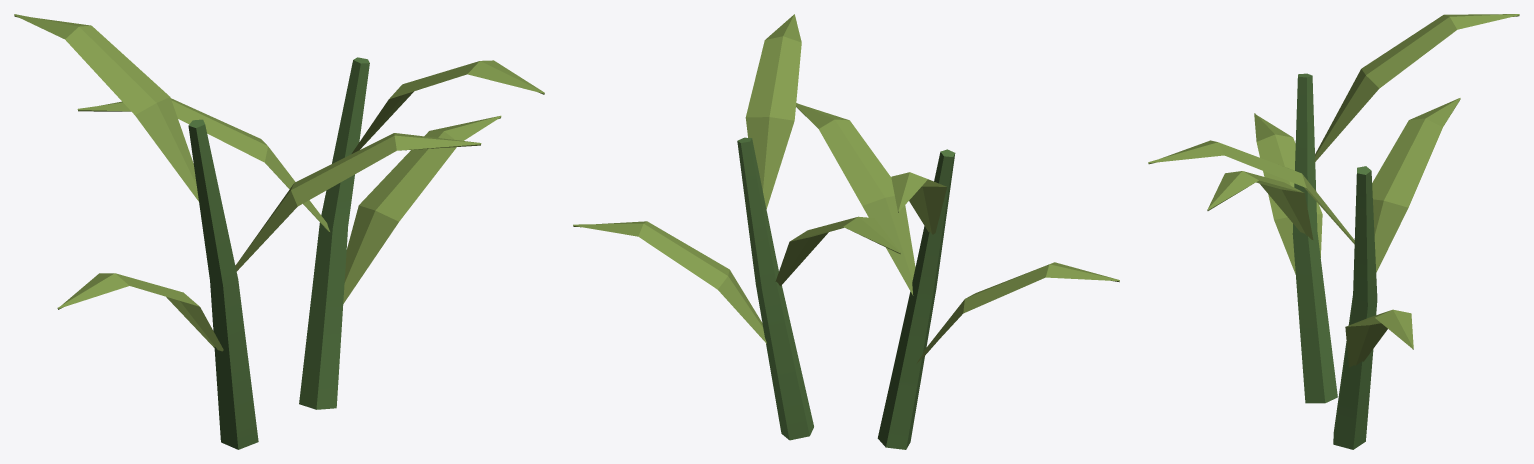
Rendered from crop_corn_sprout.glb.
3 views of the same model, side by side, from view 1: azimuth 30°, elevation 25°; view 2: azimuth 150°, elevation 25°; view 3: azimuth 270°, elevation 25° (orthographic). The views are drawn at different scales.
Parts seen in each view (by area): view 1: corn_leaf_00_00, corn_stalk_00; view 2: corn_leaf_00_00, corn_stalk_00; view 3: corn_leaf_00_00, corn_stalk_00.
Part boxes in pixels (x1,y1,x2,y2): corn_leaf_00_00: (14, 14, 544, 351); corn_stalk_00: (188, 57, 369, 449); corn_leaf_00_00: (573, 14, 1119, 363); corn_stalk_00: (737, 137, 955, 449); corn_leaf_00_00: (1148, 14, 1519, 367); corn_stalk_00: (1292, 73, 1377, 449).
Bounding box in the file's own units: 0.4913 × 0.3395 × 0.3304.
